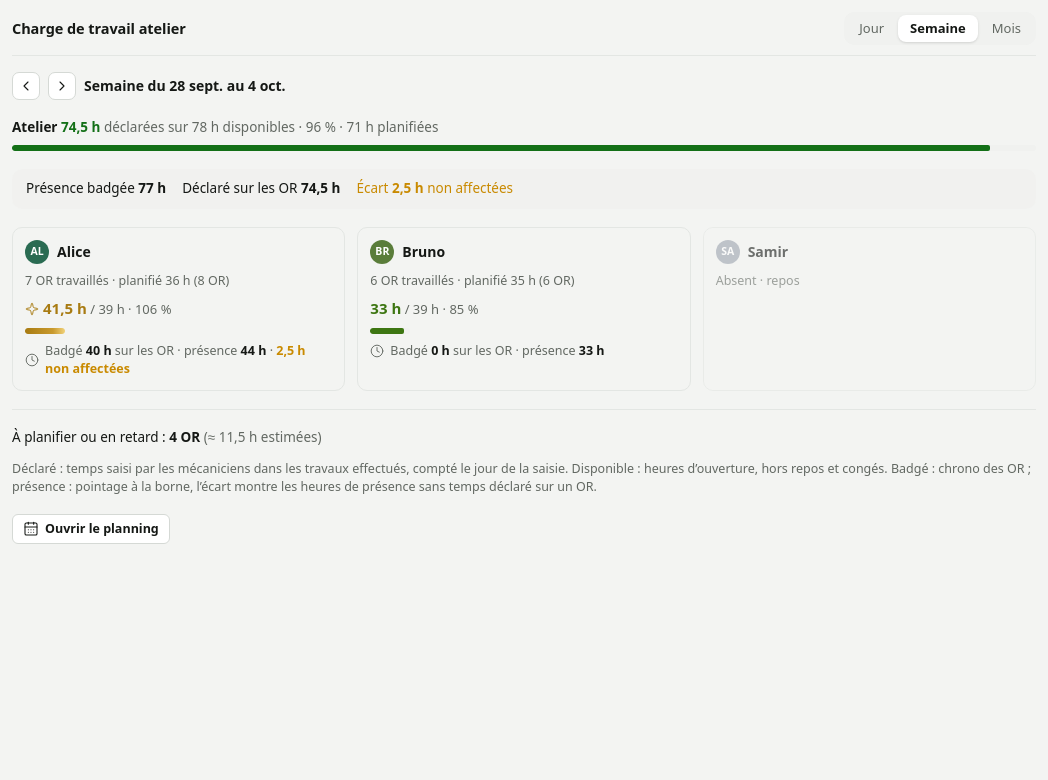
Test case: charge de travail atelier › jour, mois, période précédente et retour à la période en cours
Expected: the text "Semaine du 28 sept. au 4 oct." is shown, 84,76 -> 286,95
Expected: the button "Cette semaine" is not shown
Click the button named "Période précédente". click: (26, 86)
box: 12,72 -> 40,100
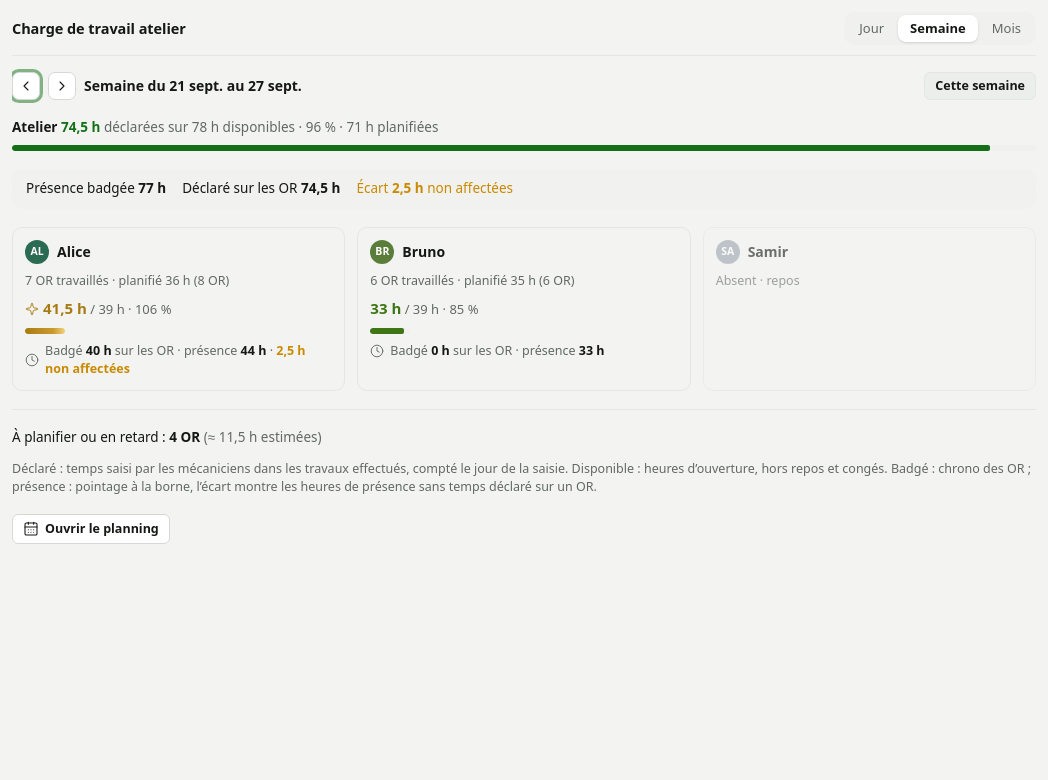
Result: the text "Semaine du 21 sept. au 27 sept." is shown at 84,76 -> 302,95
Click the button "Cette semaine". click: (980, 86)
box: 924,72 -> 1036,100
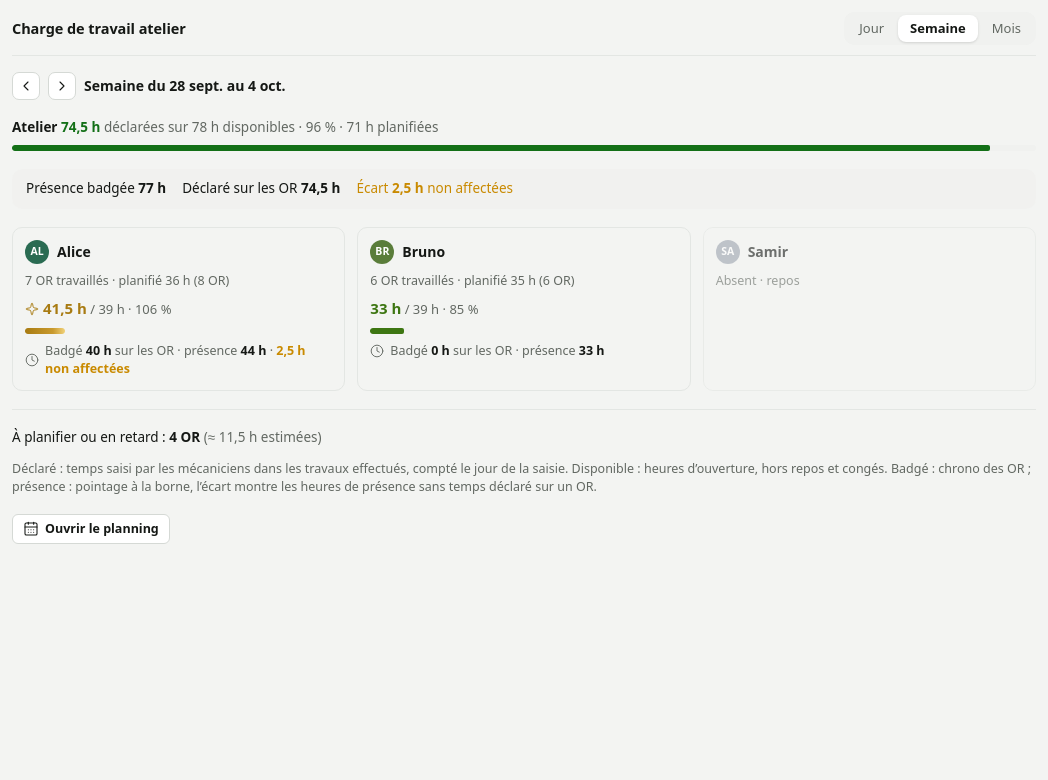
Result: the text "Semaine du 28 sept. au 4 oct." is shown at 84,76 -> 286,95
Click the tab "Jour". click: (872, 28)
box: 847,15 -> 896,42
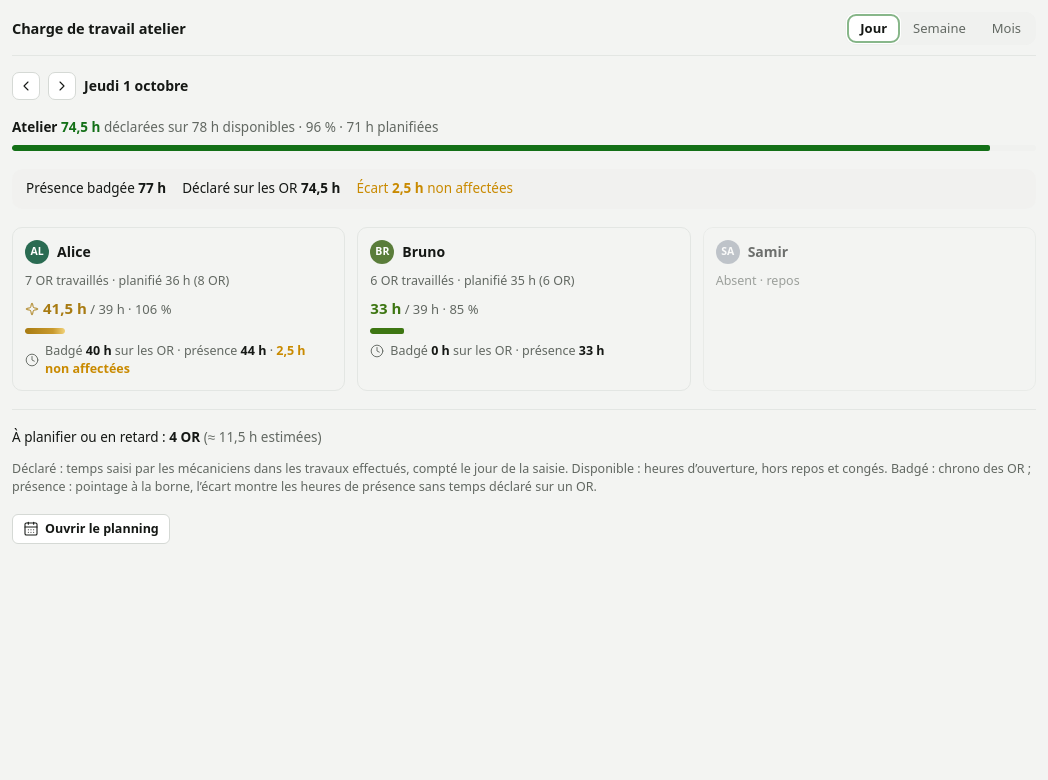
Result: the text "Jeudi 1 octobre" is shown at 84,76 -> 188,95
Click the tab "Mois". click: (1006, 28)
box: 980,15 -> 1033,42
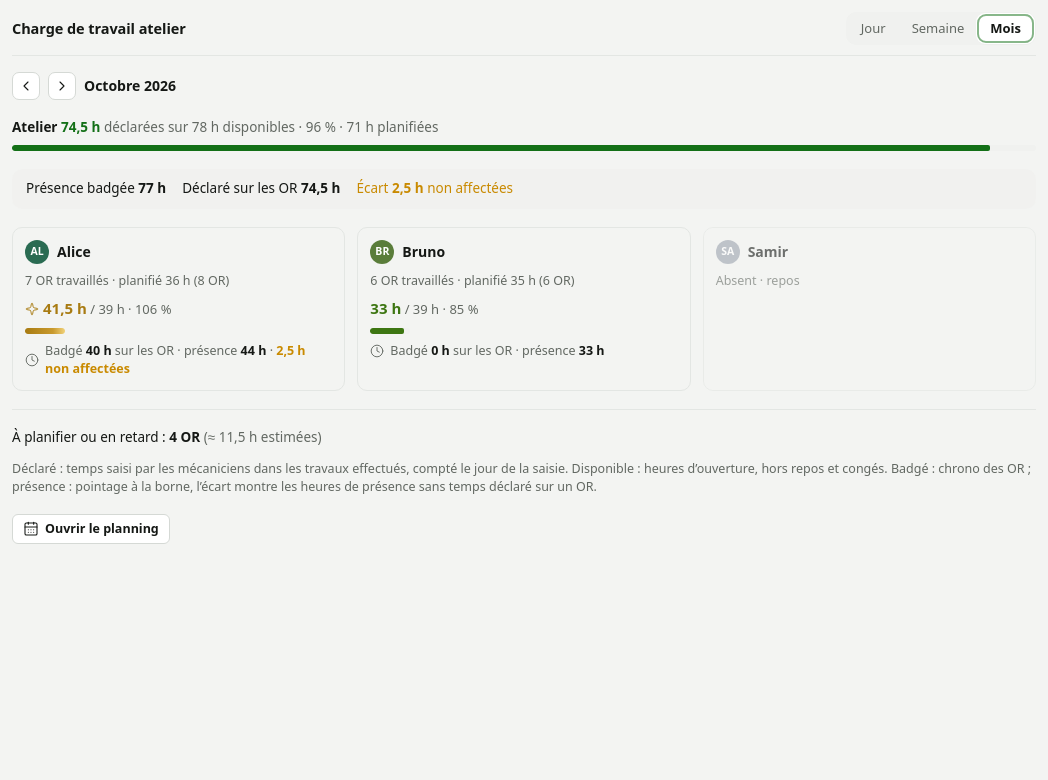
Result: the text "Octobre 2026" is shown at 84,76 -> 176,95
Click the button named "Période suivante". click: (62, 86)
box: 48,72 -> 76,100
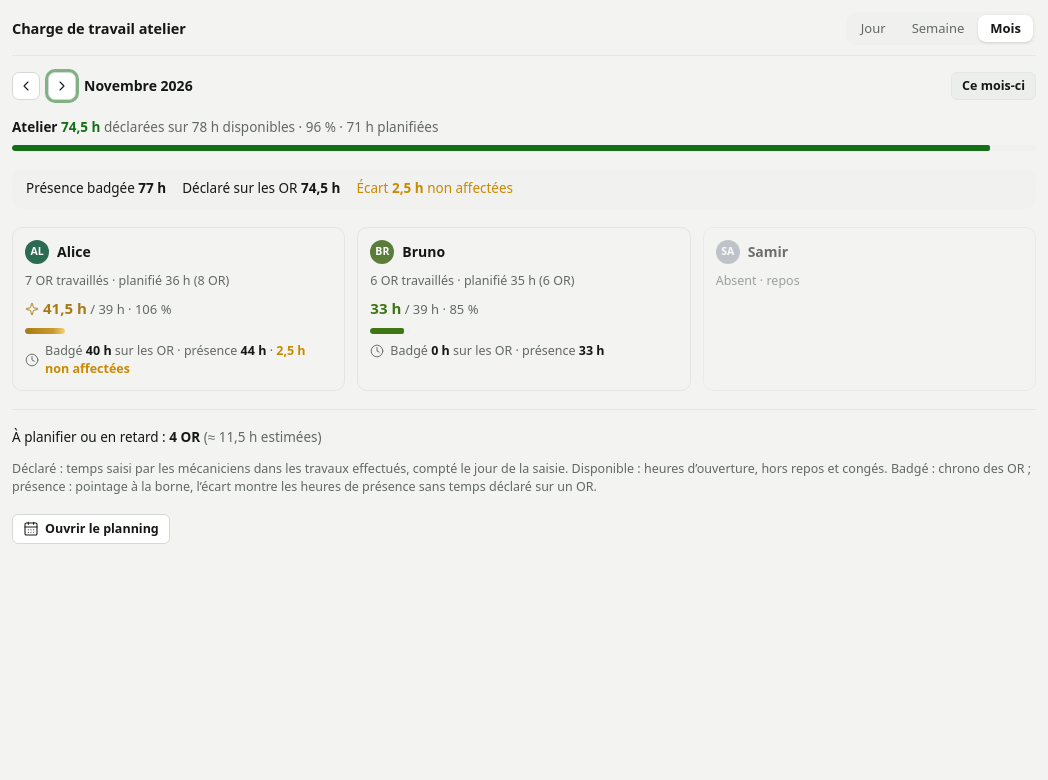
Result: the text "Novembre 2026" is shown at 84,76 -> 193,95
Result: the button "Ce mois-ci" is shown at 951,72 -> 1036,100
